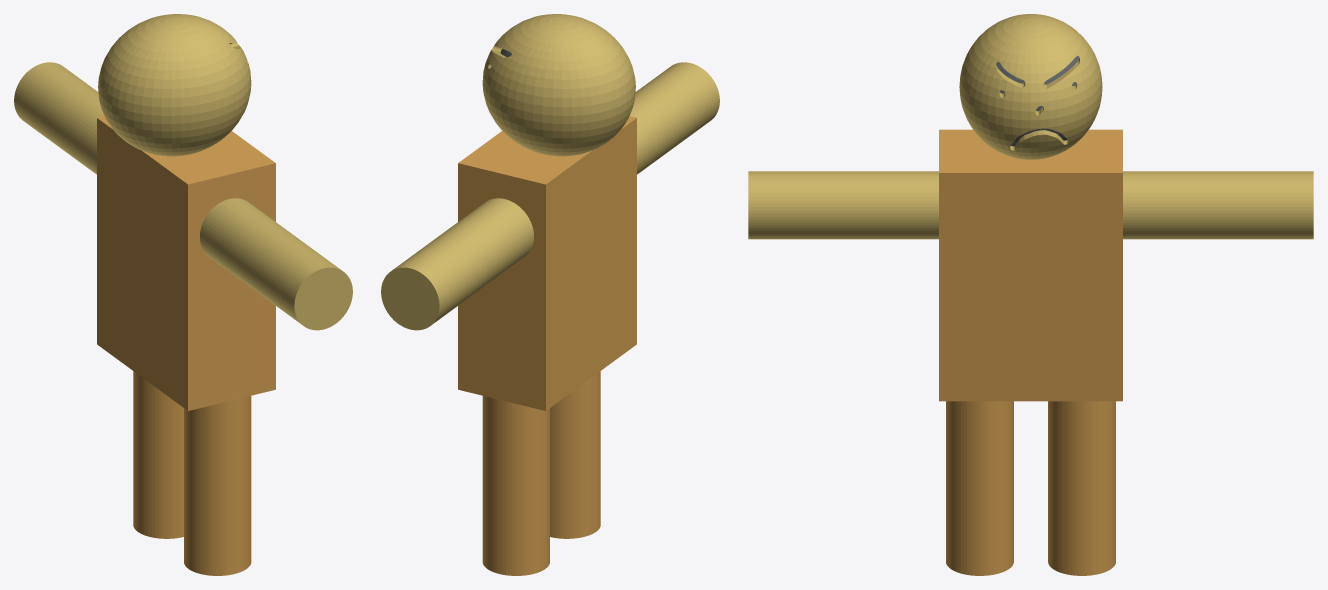
File: Ogre.glb
3 views of the same model, side by side, from view 1: azimuth 30°, elevation 25°; view 2: azimuth 150°, elevation 25°; view 3: azimuth 270°, elevation 25° (orthographic).
Parts seen in each view (by area): view 1: Mesh_Mesh_head_geo.001_lambert2SG.001; view 2: Mesh_Mesh_head_geo.001_lambert2SG.001; view 3: Mesh_Mesh_head_geo.001_lambert2SG.001.
Boxes of the visible parts, left/top/right/bottom form: Mesh_Mesh_head_geo.001_lambert2SG.001: left=14, top=14, right=352, bottom=575; Mesh_Mesh_head_geo.001_lambert2SG.001: left=381, top=14, right=719, bottom=575; Mesh_Mesh_head_geo.001_lambert2SG.001: left=748, top=14, right=1313, bottom=575.
Bounding box in the file's own units: 23.26 × 86 × 83.
